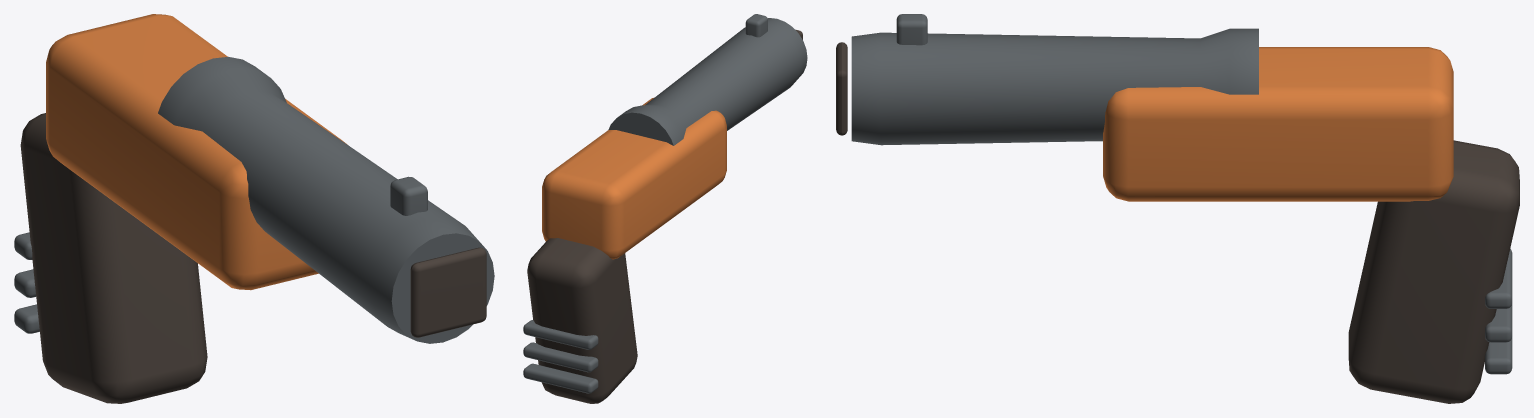
File: field-flare-pistol.glb
3 views of the same model, side by side, from view 1: azimuth 30°, elevation 25°; view 2: azimuth 150°, elevation 25°; view 3: azimuth 270°, elevation 25° (orthographic). The views are drawn at different scales.
Parts seen in each view (by area): view 1: Textured polymer grip, Oxidized barrel, Orange receiver; view 2: Orange receiver, Oxidized barrel, Textured polymer grip; view 3: Orange receiver, Oxidized barrel, Textured polymer grip.
Part boxes in pixels (x1,y1,x2,y2): Textured polymer grip: (20, 113, 486, 403); Oxidized barrel: (14, 56, 494, 343); Orange receiver: (46, 14, 347, 290); Orange receiver: (542, 98, 726, 259); Oxidized barrel: (523, 14, 807, 393); Textured polymer grip: (527, 29, 802, 403); Orange receiver: (1103, 47, 1453, 201); Oxidized barrel: (851, 14, 1512, 374); Textured polymer grip: (836, 42, 1519, 403).
Size of the model in its own units: 0.071 by 0.2103 by 0.3509.
